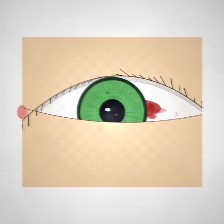hemorrhage_spot: (87, 74, 173, 143)
